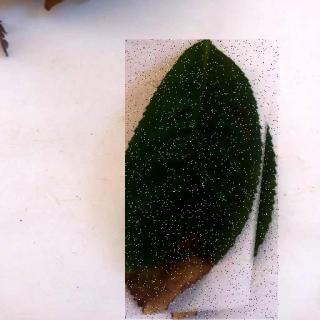Brown Blight: (127, 41, 281, 320)
